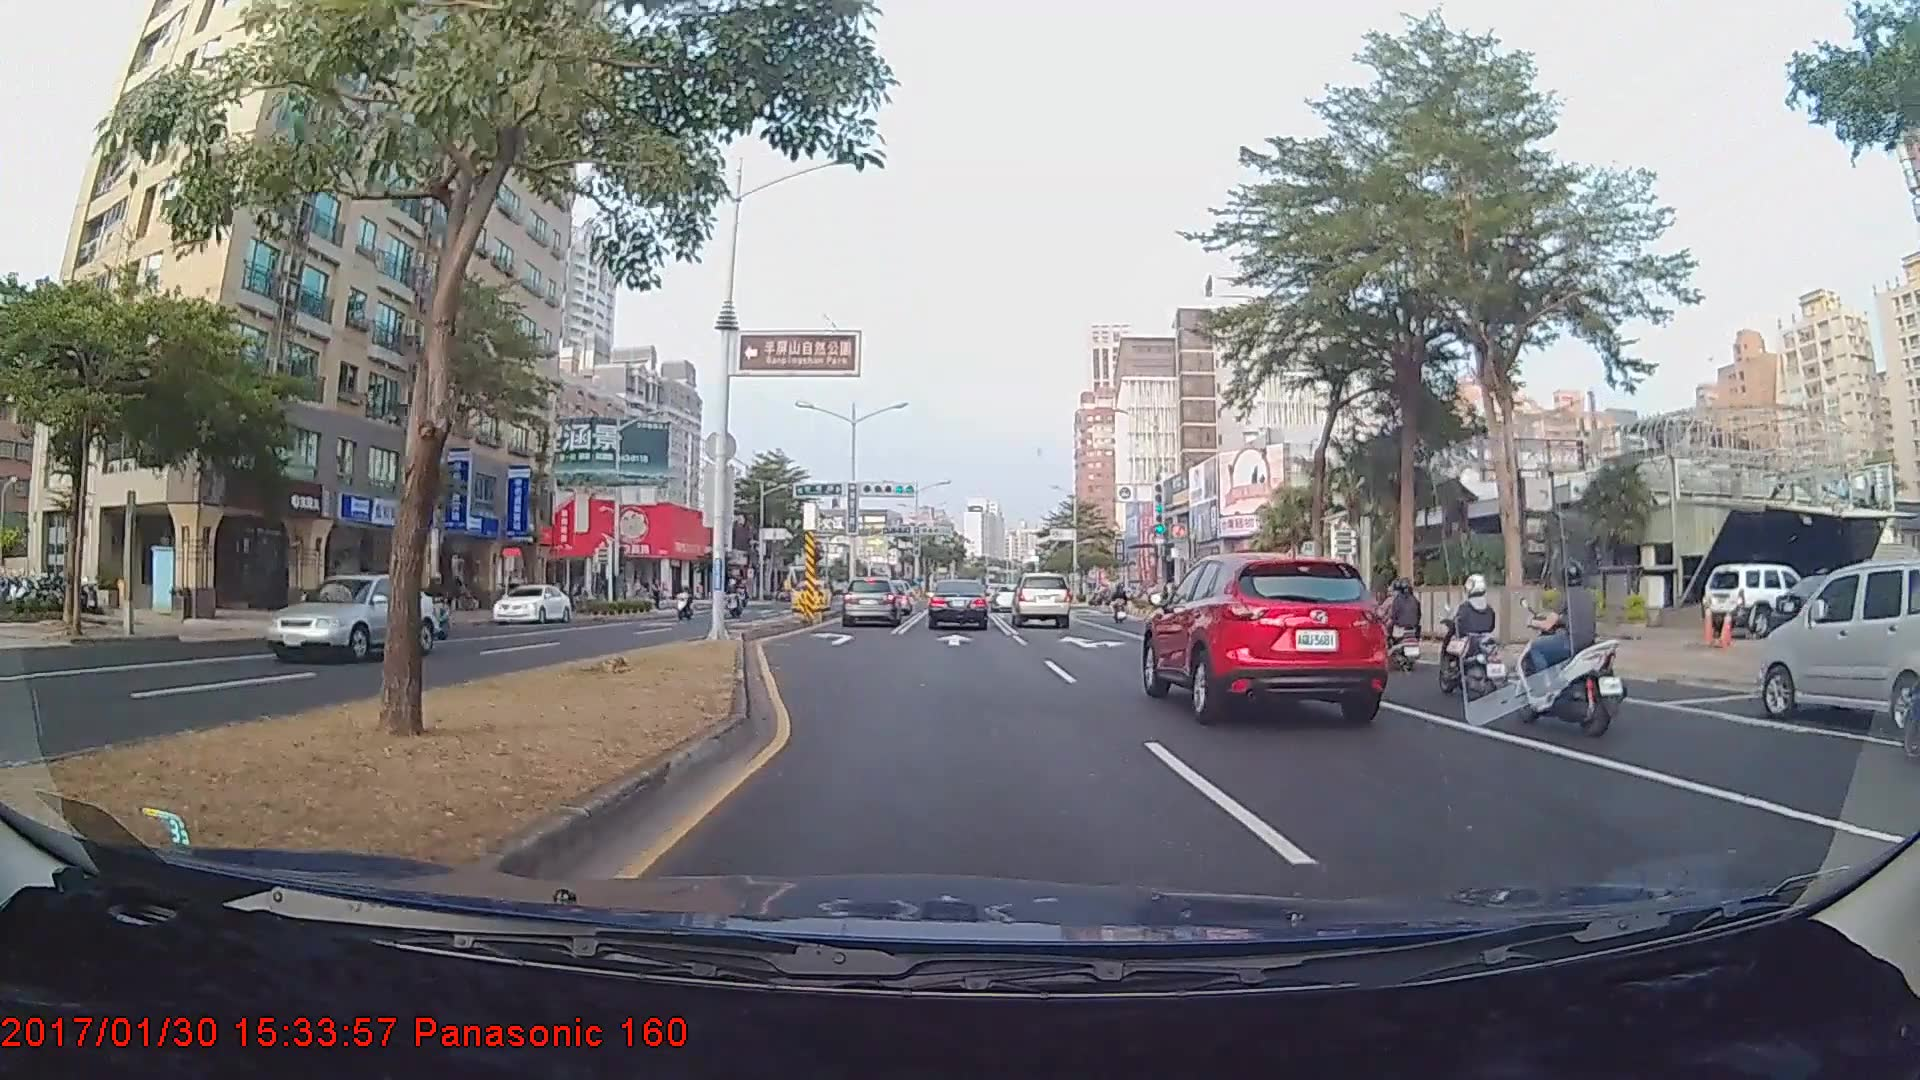rider: (1515, 553, 1629, 738), (1431, 572, 1528, 714), (1371, 576, 1425, 679), (1107, 582, 1134, 625)
vehicle: (1146, 547, 1386, 721), (1753, 562, 1917, 735), (263, 571, 439, 664), (1700, 560, 1806, 635), (1009, 571, 1072, 628), (840, 575, 908, 627), (490, 582, 571, 624), (927, 578, 988, 632)
